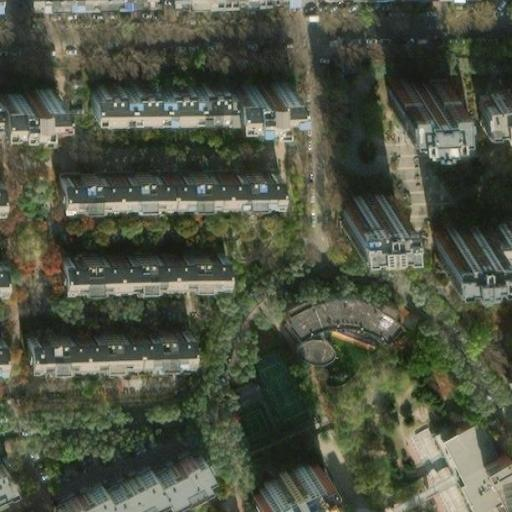building: (40, 443, 196, 512), (272, 292, 396, 352), (20, 324, 183, 354), (53, 246, 218, 274), (85, 77, 224, 108), (242, 450, 316, 504), (52, 166, 162, 196), (161, 162, 271, 192), (379, 69, 436, 105), (224, 77, 284, 108), (423, 209, 483, 239), (325, 181, 380, 208), (467, 77, 512, 110), (0, 458, 22, 505), (482, 208, 512, 237), (0, 337, 13, 374), (0, 179, 13, 216), (0, 263, 14, 295)
